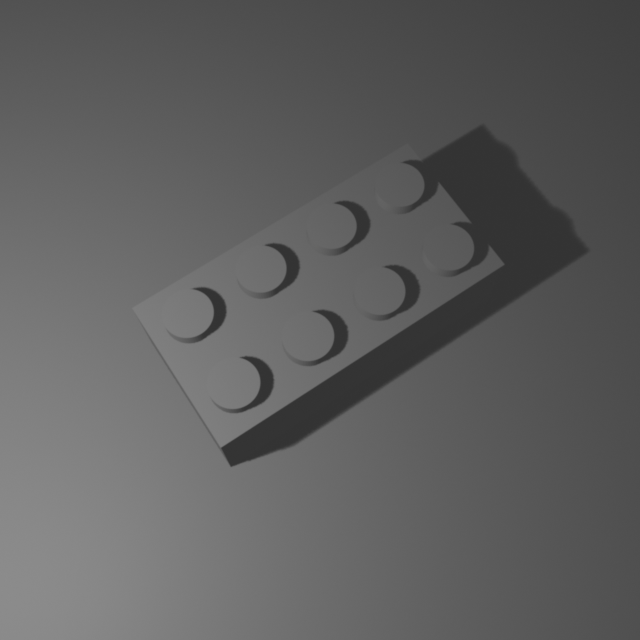lego_2x4: (128, 135, 508, 467)
